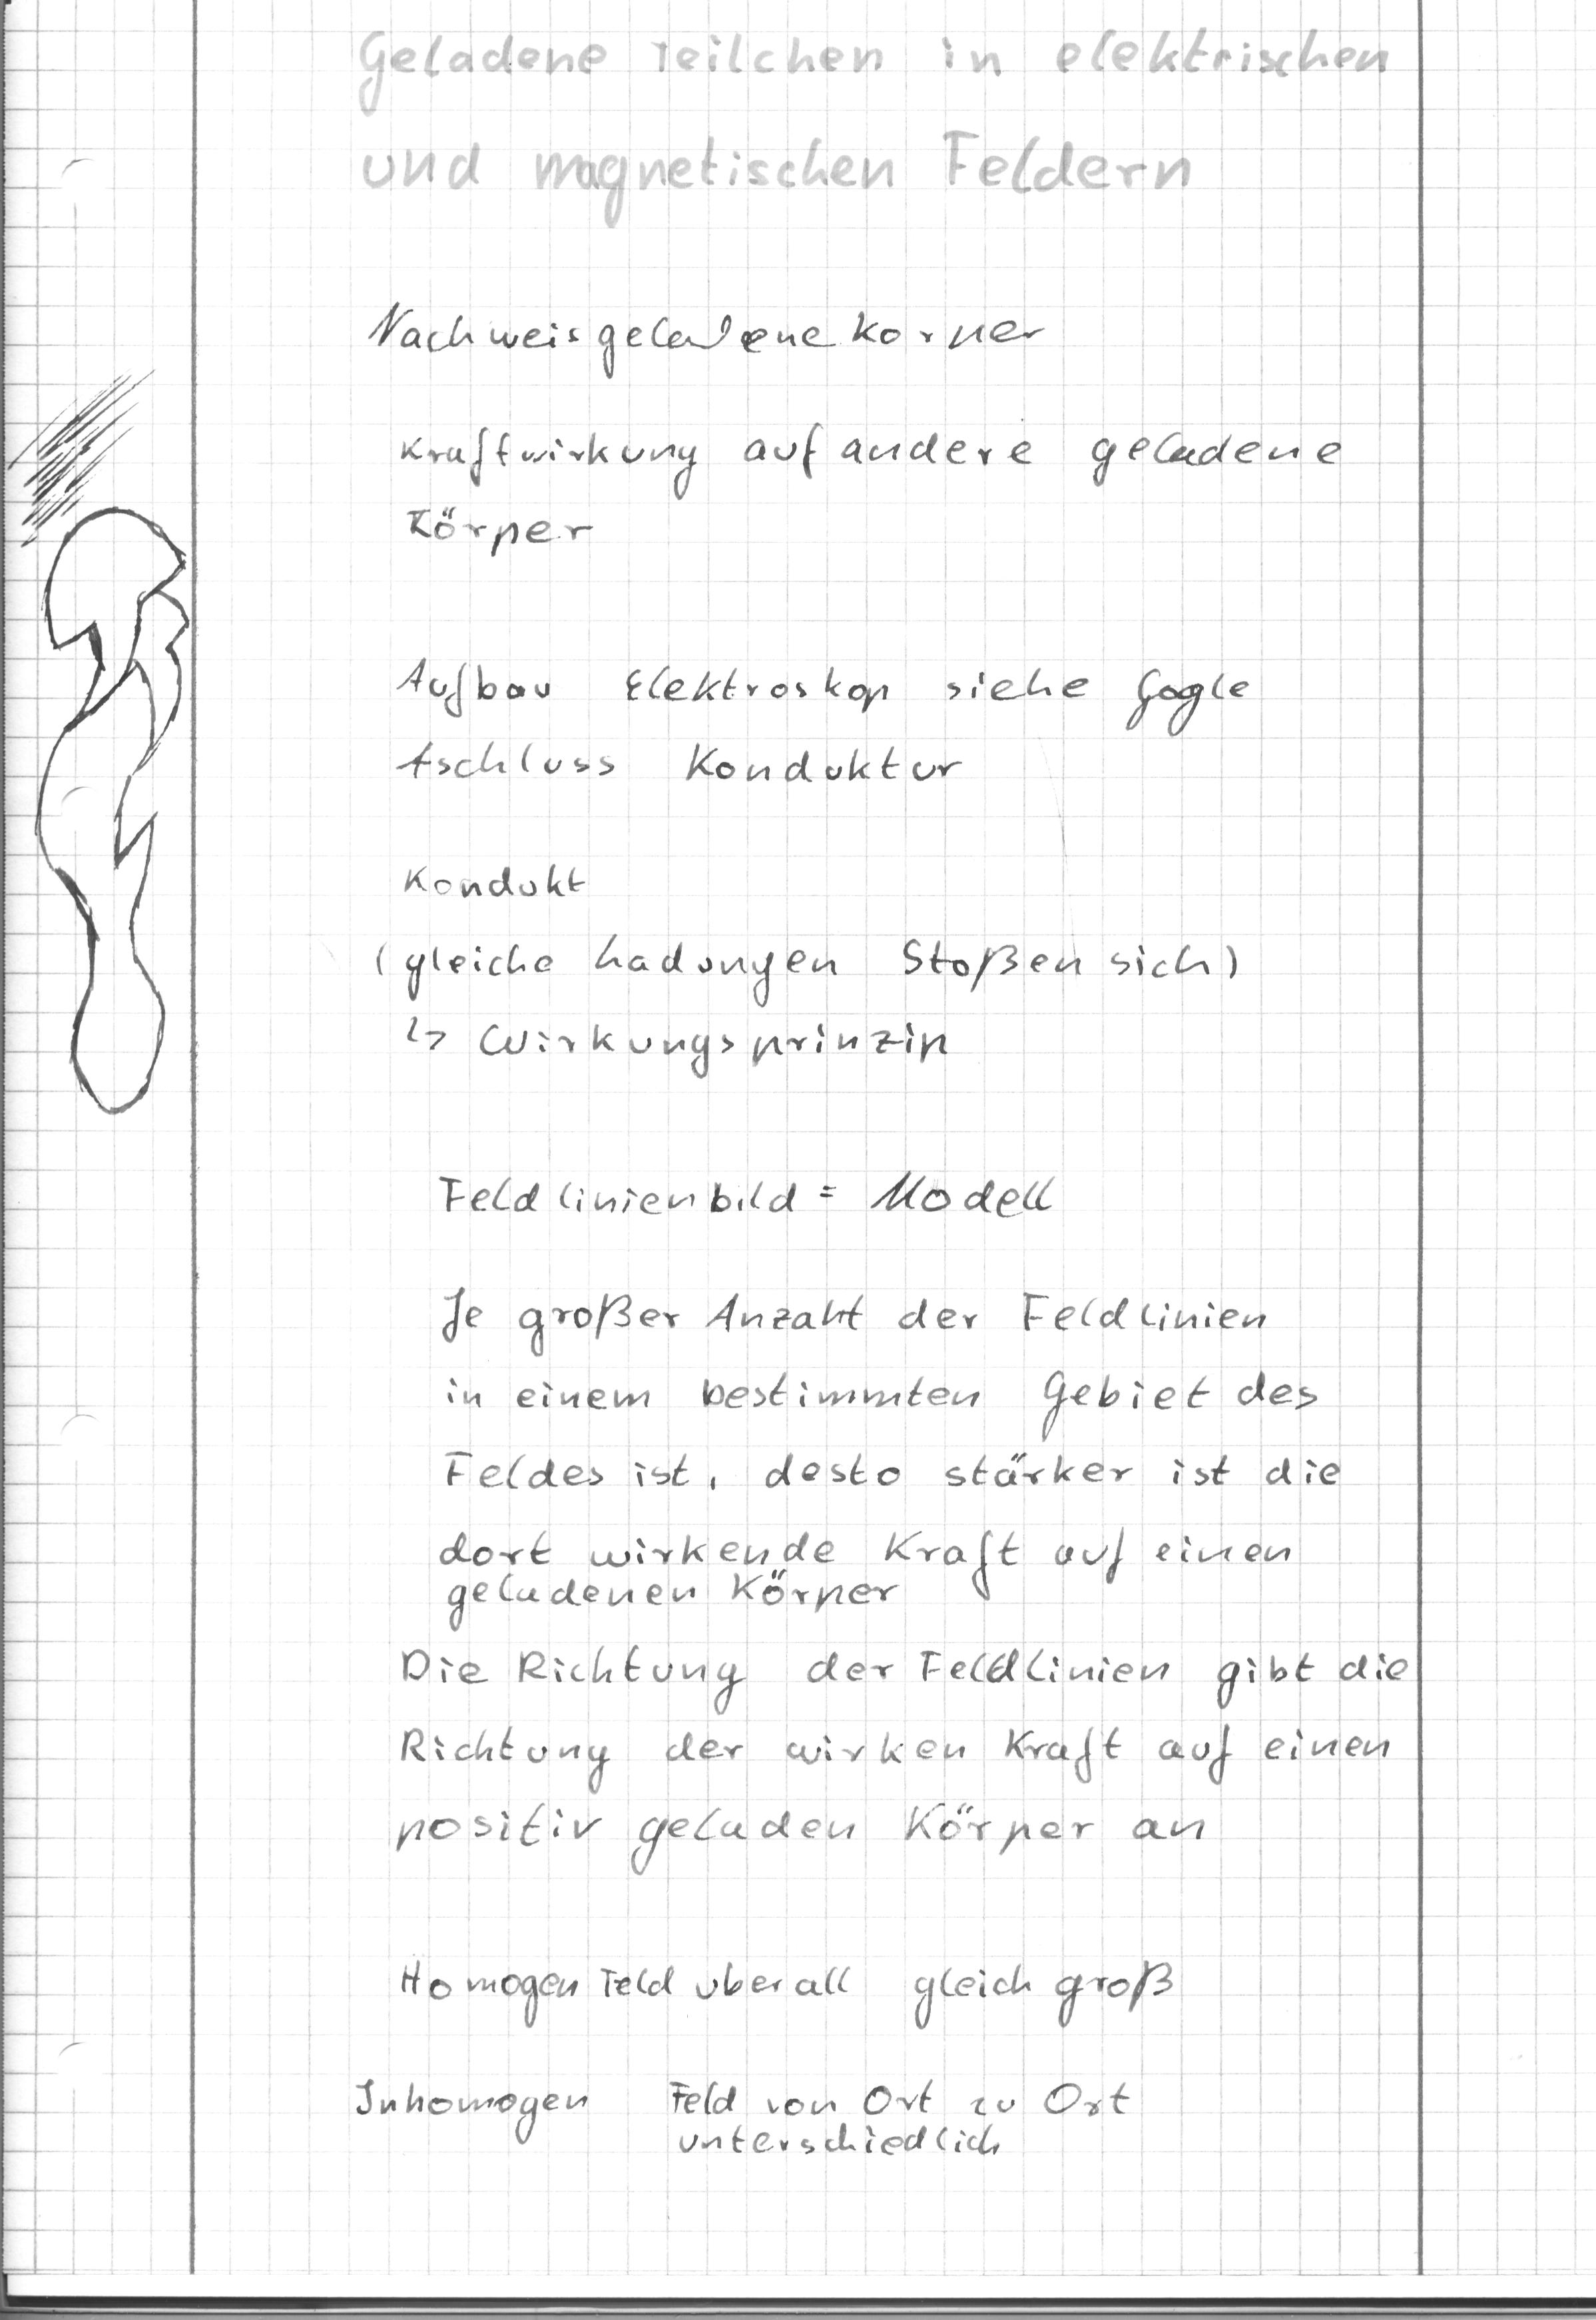word: (385, 1710, 1394, 1881), (429, 1279, 1325, 1446), (392, 415, 1358, 565), (367, 924, 1252, 1082), (393, 647, 1266, 799), (437, 1522, 1303, 1635), (389, 1635, 1420, 1714), (394, 1950, 1190, 2041), (358, 289, 1052, 384), (425, 1158, 1073, 1238), (658, 2067, 1138, 2166), (335, 2067, 600, 2150), (390, 846, 603, 914)
